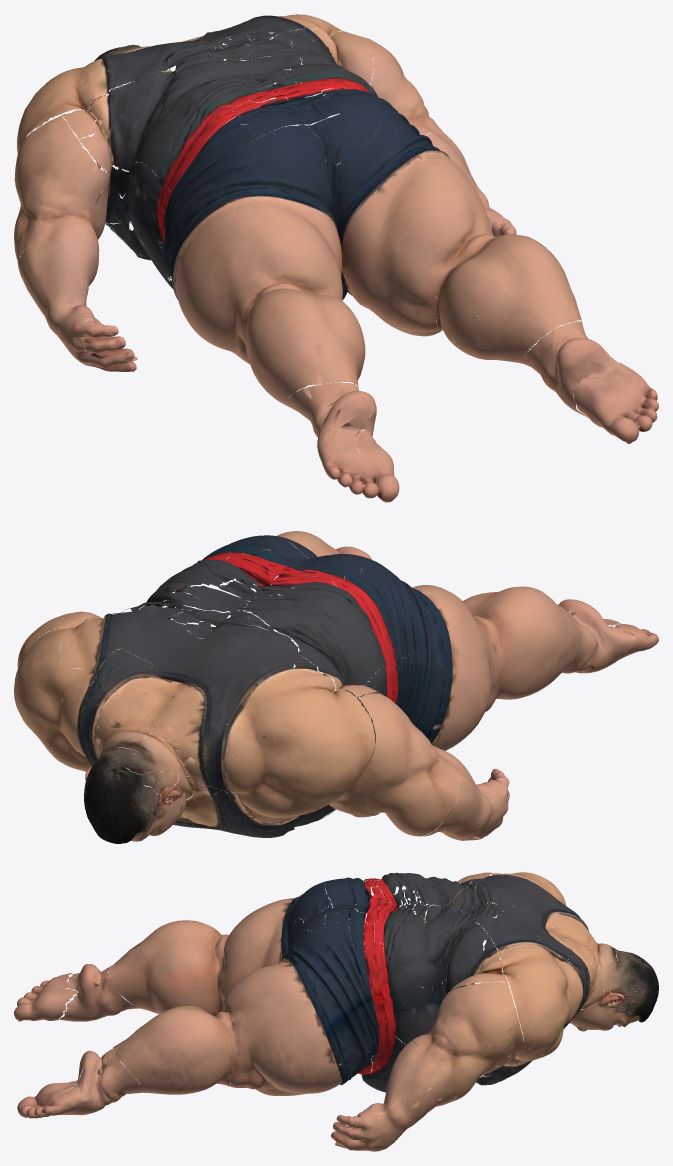
Rendered from patient12.glb.
3 renders of one model, top to bottom at view 1: azimuth 30°, elevation 25°; view 2: azimuth 150°, elevation 25°; view 3: azimuth 270°, elevation 25°, orthographic. The views are drawn at different scales.
Visible parts, largest first — view 1: back_patient_skin; view 2: back_patient_skin; view 3: back_patient_skin.
Part boxes in pixels (left/top/right/bottom): back_patient_skin: left=14, top=14, right=658, bottom=502; back_patient_skin: left=14, top=531, right=658, bottom=843; back_patient_skin: left=14, top=872, right=658, bottom=1151.
Bounding box in the file's own units: 1.09 × 0.5323 × 1.74.
1 material, 1 textured.
